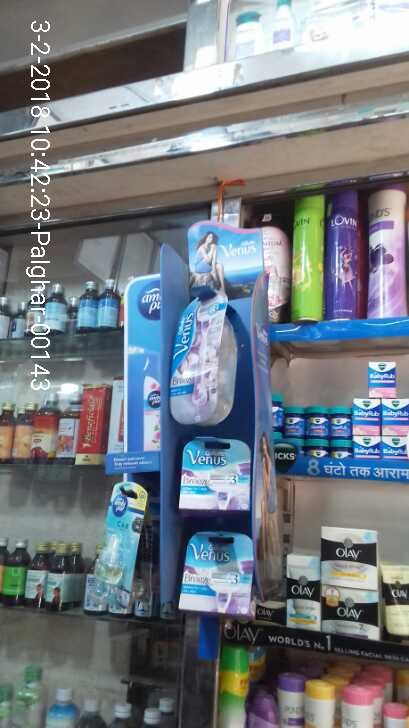beauty: (172, 301, 226, 424), (177, 532, 255, 609), (176, 437, 251, 514), (323, 527, 381, 588), (323, 586, 380, 638), (285, 553, 319, 632), (382, 565, 407, 639)
pharmacy: (351, 397, 381, 436), (368, 362, 398, 398), (381, 399, 408, 434), (307, 407, 330, 440), (330, 407, 351, 440), (381, 437, 409, 460), (282, 407, 303, 437), (355, 435, 378, 459)
